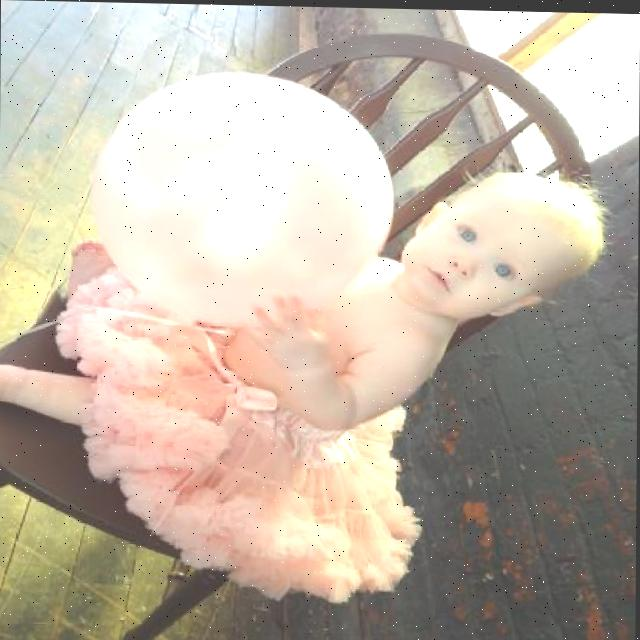balloon: (84, 53, 396, 341)
